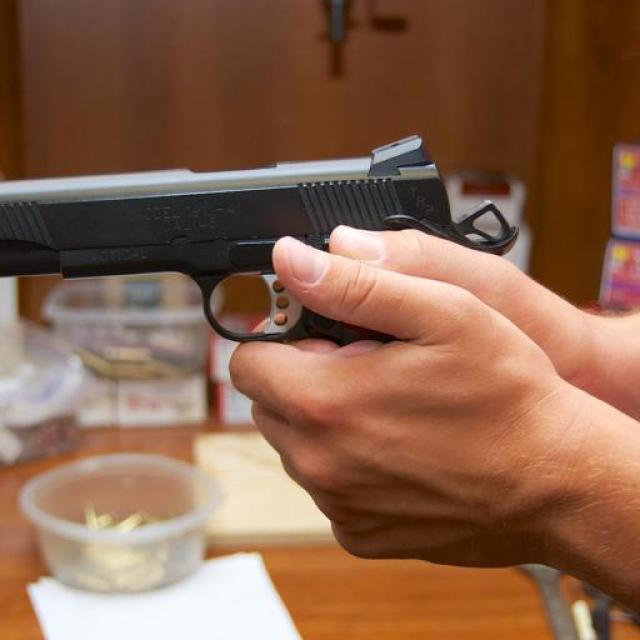pistol: (1, 135, 527, 360)
